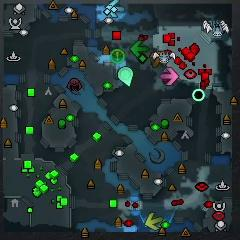p2: (117, 67, 135, 86)
p2Clone: (193, 89, 205, 101)
x1: (161, 66, 179, 86)
x2: (145, 212, 163, 231)
x3: (104, 0, 125, 20)
x4: (131, 41, 149, 58)
x5: (151, 51, 166, 69)
